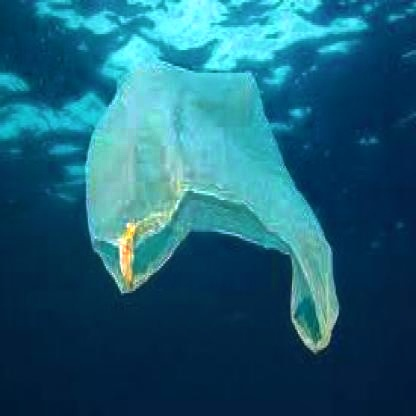pbag: (85, 54, 342, 357)
